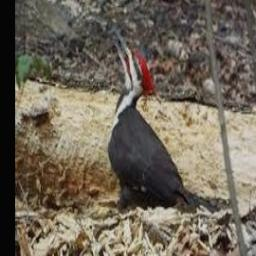Woodpecker: (107, 31, 220, 213)
